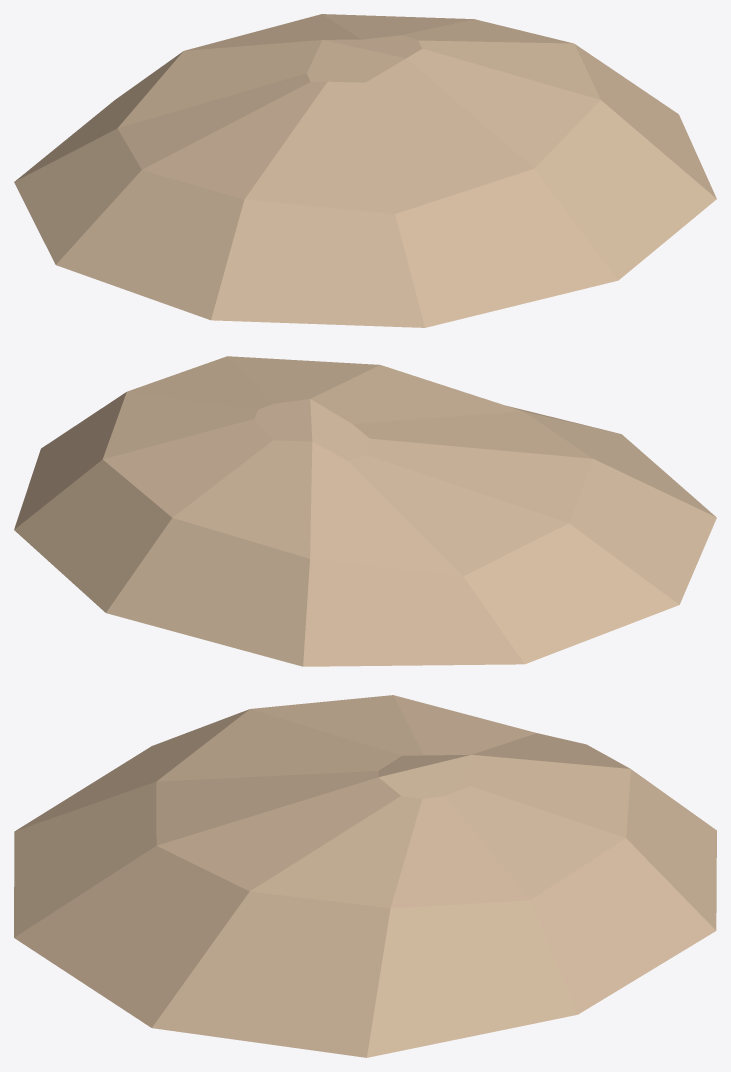
File: flour(top_for_bag).fbx
3 views of the same model, one above another, from view 1: azimuth 30°, elevation 25°; view 2: azimuth 150°, elevation 25°; view 3: azimuth 270°, elevation 25° (orthographic). The views are drawn at different scales.
Parts seen in each view (by area): view 1: flour; view 2: flour; view 3: flour.
Part boxes in pixels (<box>): flour: <box>14,14,716,327</box>; flour: <box>14,356,716,666</box>; flour: <box>14,695,716,1057</box>.
Size of the model in its own units: 36.79 by 6.71 by 31.78.
